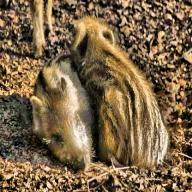boar: (54, 13, 192, 180)
